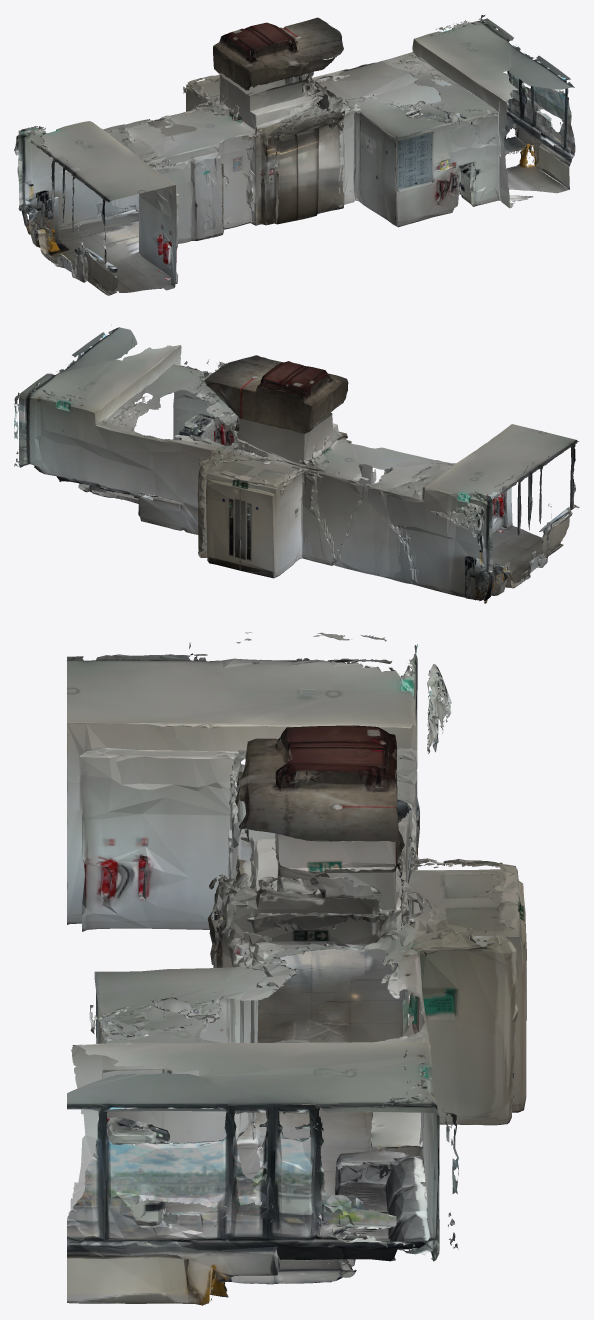
Rendered from 4_floor_back_1_LOW_POLY.fbx.
3 views of the same model, one above another, from view 1: azimuth 30°, elevation 25°; view 2: azimuth 150°, elevation 25°; view 3: azimuth 270°, elevation 25° (orthographic). The views are drawn at different scales.
Parts seen in each view (by area): view 1: 4_floor_back_1_LOW_POLY; view 2: 4_floor_back_1_LOW_POLY; view 3: 4_floor_back_1_LOW_POLY.
Boxes of the visible parts, x1,y1,x2,y2 form: 4_floor_back_1_LOW_POLY: [14, 14, 575, 295]; 4_floor_back_1_LOW_POLY: [14, 324, 579, 603]; 4_floor_back_1_LOW_POLY: [67, 632, 526, 1305].
Size of the model in its own units: 1215 by 417 by 517.
Materials: 1 (1 with a texture image).
